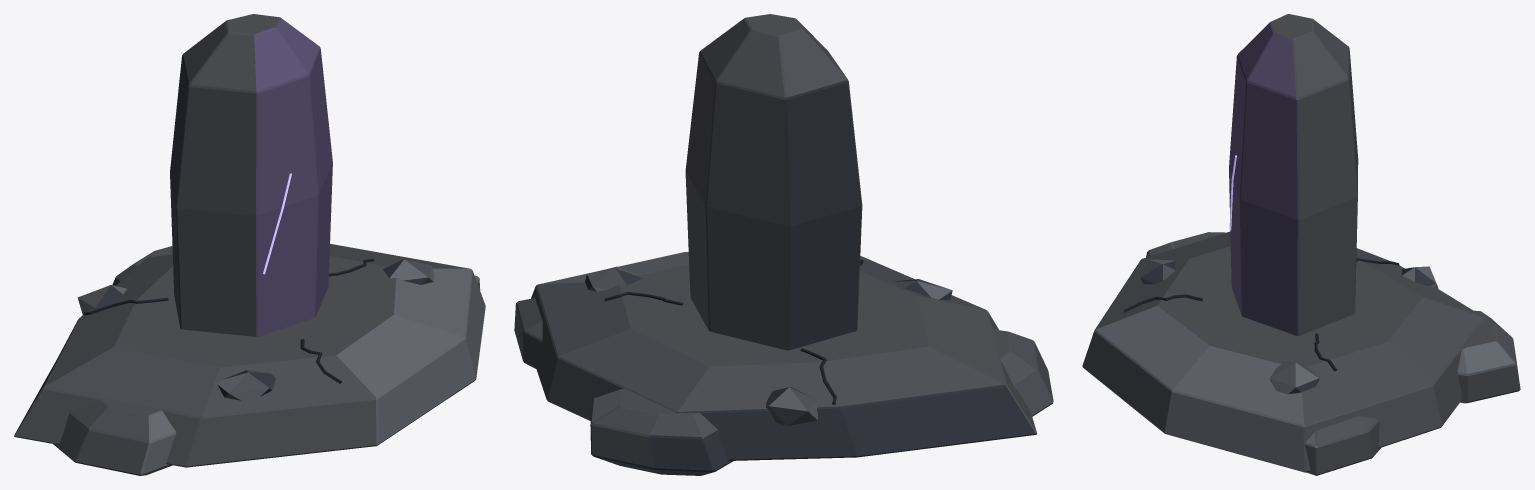
The model's file is BH_ORE_O21_Nullstone_V02.glb.
3 renders of one model, left to right at view 1: azimuth 30°, elevation 25°; view 2: azimuth 150°, elevation 25°; view 3: azimuth 270°, elevation 25°, orthographic. The views are drawn at different scales.
Parts seen in each view (by area): view 1: Bedrock | primary.003, Nullstone monolith.003, Bedrock | shoulder 1.003, O21 | V02 embedded stone ledge.004, O21 | V02 embedded stone ledge.005, O21 | V02 embedded stone ledge.003; view 2: Bedrock | primary.003, Nullstone monolith.003, Bedrock | shoulder 3.003, Bedrock | shoulder 1.003, O21 | V02 embedded stone ledge.003, Bedrock | shoulder 2.003, O21 | V02 embedded stone ledge.005, O21 | V02 embedded stone ledge.004; view 3: Bedrock | primary.003, Nullstone monolith.003, Bedrock | shoulder 3.003, Bedrock | shoulder 2.003, O21 | V02 embedded stone ledge.005, O21 | V02 embedded stone ledge.004, Bedrock | shoulder 1.003, O21 | V02 embedded stone ledge.003.
Boxes of the visible parts, x1,y1,x2,y2 form: Bedrock | primary.003: (14, 244, 485, 467); Nullstone monolith.003: (170, 14, 332, 336); Bedrock | shoulder 1.003: (53, 399, 176, 475); O21 | V02 embedded stone ledge.004: (217, 370, 275, 400); O21 | V02 embedded stone ledge.005: (383, 259, 434, 284); O21 | V02 embedded stone ledge.003: (77, 285, 126, 314); Bedrock | primary.003: (531, 252, 1036, 460); Nullstone monolith.003: (685, 14, 862, 350); Bedrock | shoulder 3.003: (590, 388, 733, 475); Bedrock | shoulder 1.003: (992, 329, 1053, 416); O21 | V02 embedded stone ledge.003: (766, 387, 818, 425); Bedrock | shoulder 2.003: (514, 298, 542, 368); O21 | V02 embedded stone ledge.005: (585, 266, 642, 291); O21 | V02 embedded stone ledge.004: (893, 279, 952, 299); Bedrock | primary.003: (1082, 231, 1484, 472); Nullstone monolith.003: (1229, 14, 1358, 335); Bedrock | shoulder 3.003: (1457, 310, 1520, 403); Bedrock | shoulder 2.003: (1304, 416, 1380, 475); O21 | V02 embedded stone ledge.005: (1270, 361, 1319, 394); O21 | V02 embedded stone ledge.004: (1140, 259, 1175, 284); Bedrock | shoulder 1.003: (1146, 232, 1225, 257); O21 | V02 embedded stone ledge.003: (1401, 266, 1438, 288).
Bounding box in the file's own units: 3.28 × 2.35 × 2.65.
